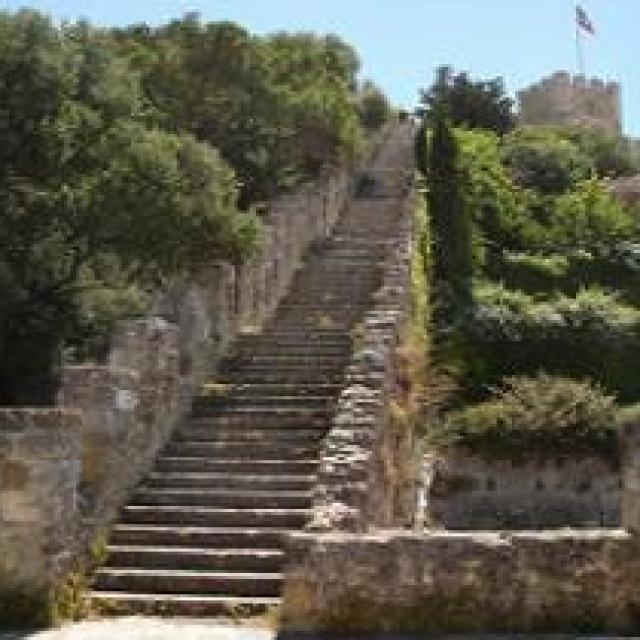upstair: (87, 348, 340, 632)
